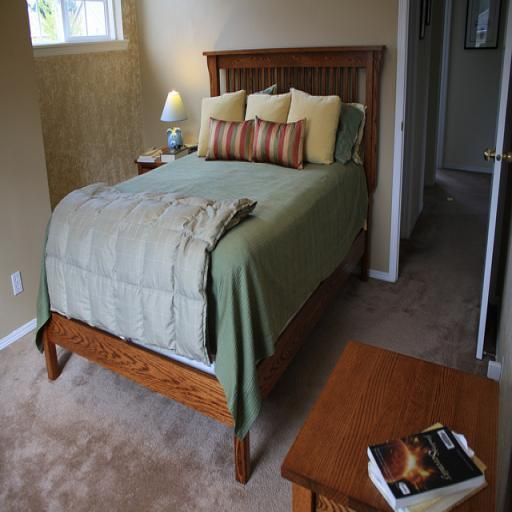bed: (18, 22, 399, 454)
